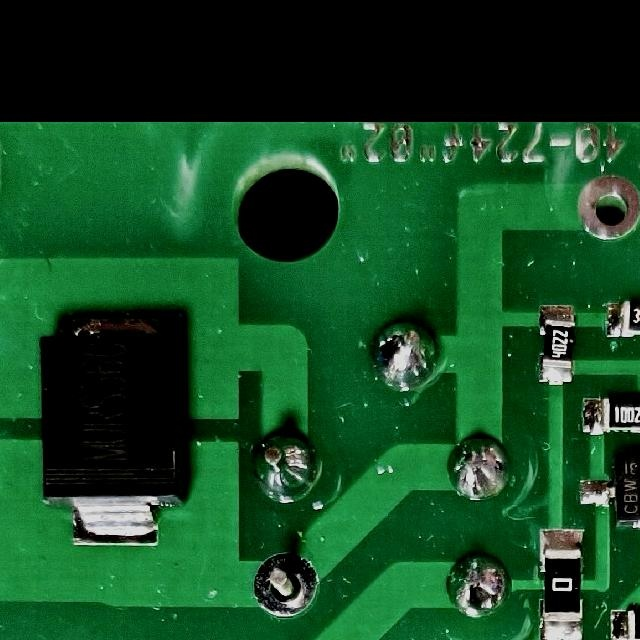chip-resistor: (536, 526, 588, 640), (534, 302, 577, 386), (575, 395, 640, 439)
diode: (34, 307, 194, 553)
transistor: (575, 452, 640, 536)
